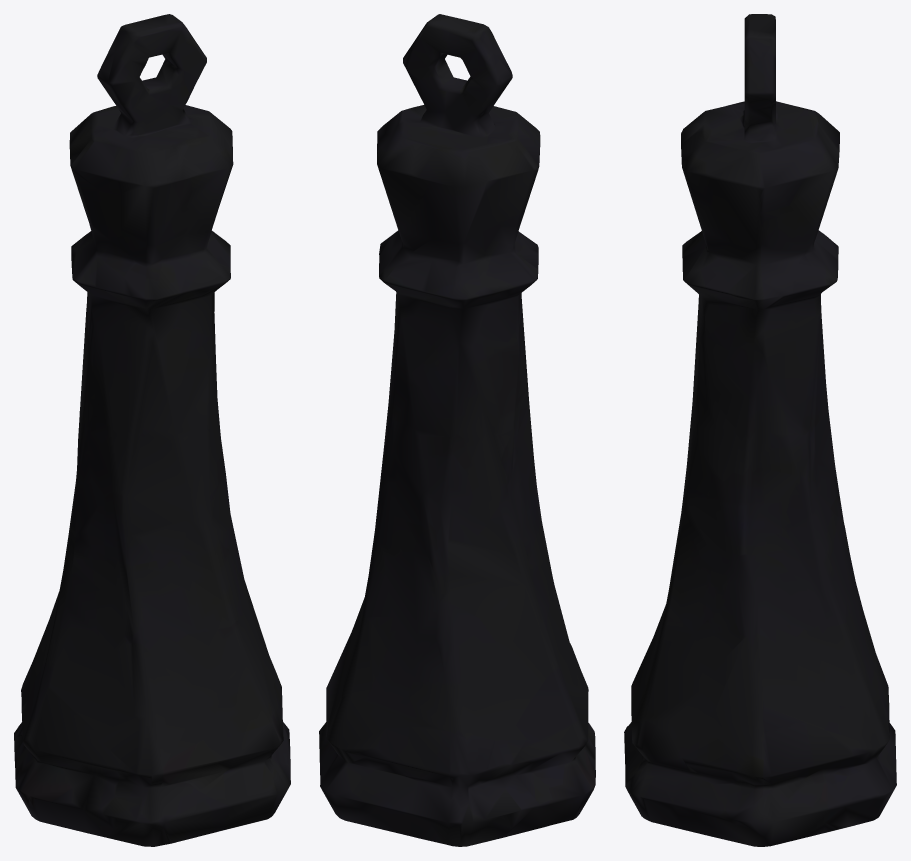
Rendered from hexa_king_black.glb.
3 views of the same model, side by side, from view 1: azimuth 30°, elevation 25°; view 2: azimuth 150°, elevation 25°; view 3: azimuth 270°, elevation 25° (orthographic).
Bounding box in the file's own units: 0.7269 × 2 × 0.6463.
1 material, 1 textured.
